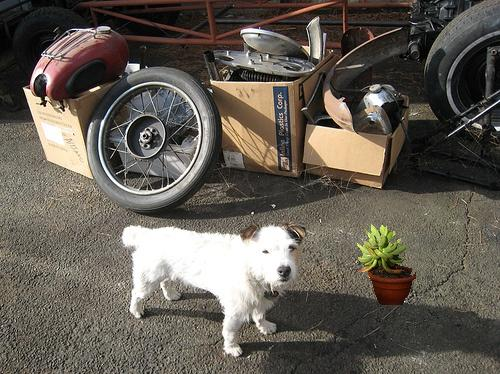tampered: (358, 225, 416, 305)
